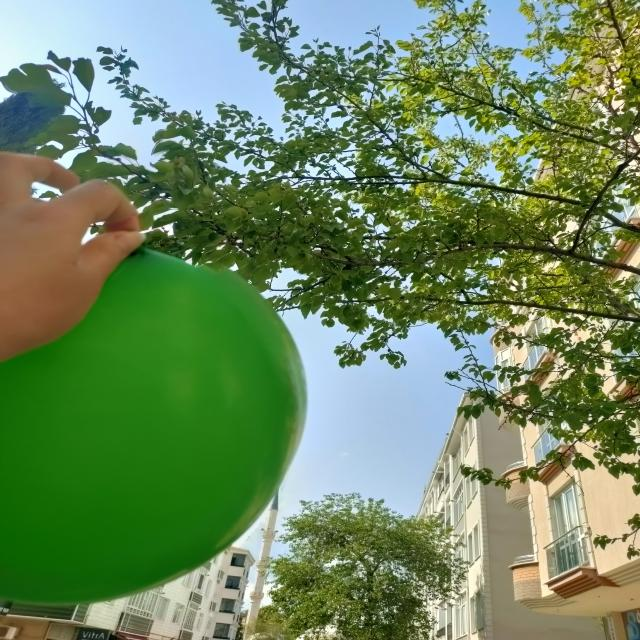green: (1, 246, 311, 604)
